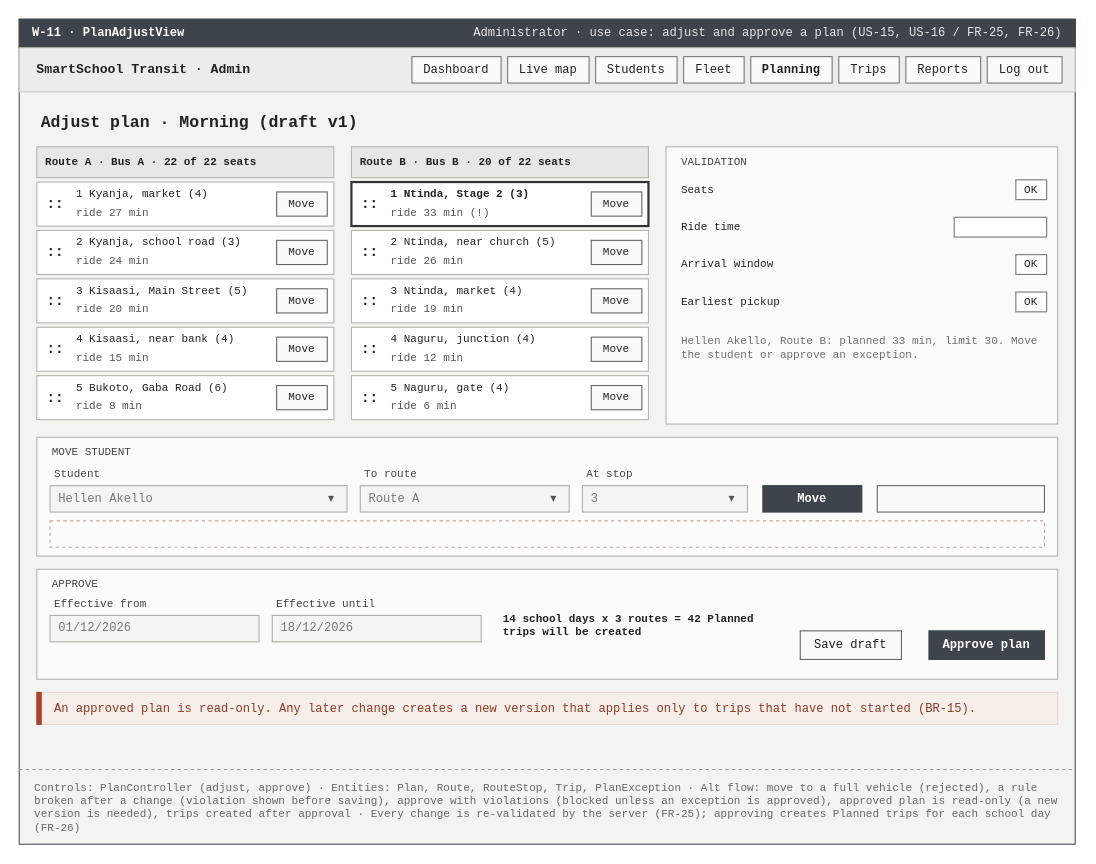
Image size: 1096x864. Some labels were removed from this diagram. Each missing label, with the centre of its shape:
"1 violation" belongs at (1000,226).
"Approve exception" belongs at (960,498).
"⚠ Move rejected: Bus A is full (22 of 22 seats) (error slot)" belongs at (546,533).
